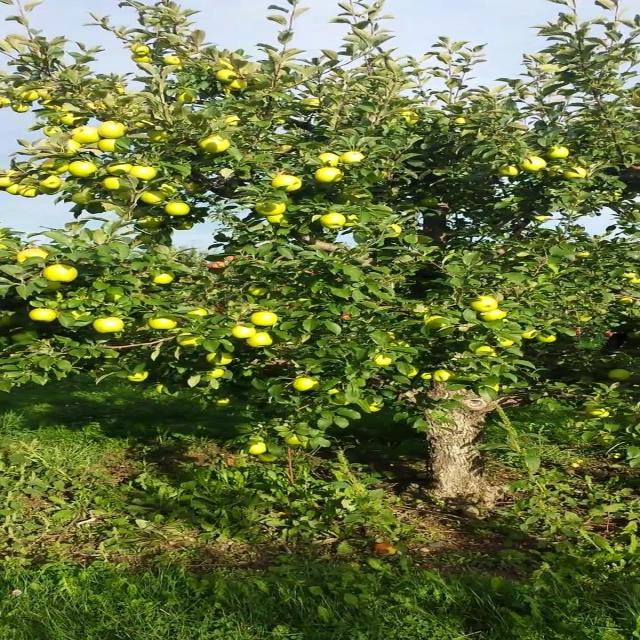apple: (198, 136, 233, 153), (70, 160, 100, 179), (49, 264, 78, 283), (92, 320, 128, 335), (255, 200, 288, 216), (276, 176, 306, 192), (518, 156, 548, 172), (148, 316, 178, 332), (468, 296, 498, 312), (177, 332, 206, 348), (220, 76, 249, 92), (205, 352, 235, 367), (319, 168, 347, 184), (248, 332, 276, 348), (319, 212, 345, 229), (99, 124, 128, 139), (42, 160, 71, 175), (20, 248, 50, 262), (63, 112, 89, 128), (255, 312, 279, 328), (163, 204, 192, 217), (77, 128, 100, 144), (156, 184, 180, 199), (63, 140, 84, 157), (234, 324, 256, 340), (383, 224, 405, 240), (106, 164, 135, 176), (141, 216, 164, 231), (340, 152, 368, 164), (134, 168, 158, 182), (426, 316, 450, 330), (141, 192, 164, 205), (184, 184, 208, 196), (148, 132, 171, 144), (13, 332, 36, 344), (319, 156, 341, 168), (298, 380, 320, 392), (156, 272, 178, 284), (547, 148, 569, 160), (248, 444, 270, 456), (127, 372, 149, 384), (42, 176, 64, 188), (433, 372, 457, 383), (497, 164, 519, 176), (255, 452, 277, 464), (99, 140, 121, 152), (227, 80, 249, 92), (42, 280, 64, 292), (362, 400, 384, 412), (404, 112, 421, 127), (20, 188, 43, 199), (483, 312, 508, 322), (35, 312, 57, 323), (106, 180, 126, 192), (177, 92, 197, 104), (568, 168, 588, 180), (269, 216, 292, 226), (589, 408, 612, 418), (177, 220, 196, 232), (476, 348, 501, 357), (220, 72, 240, 83), (376, 356, 396, 367), (92, 204, 114, 214), (191, 308, 210, 319), (77, 192, 94, 204), (6, 184, 23, 196), (611, 372, 633, 381), (42, 128, 64, 137), (348, 192, 372, 200), (20, 92, 39, 102), (134, 120, 153, 130), (333, 396, 350, 407), (134, 44, 149, 56), (163, 56, 183, 65), (305, 100, 320, 112), (525, 328, 540, 340), (547, 168, 562, 180), (248, 288, 270, 296), (419, 200, 441, 208), (220, 60, 236, 71), (227, 116, 242, 127), (497, 340, 517, 348), (42, 100, 62, 108), (42, 104, 62, 112), (13, 104, 30, 113), (618, 296, 635, 305), (276, 144, 293, 153), (134, 56, 153, 64), (348, 216, 363, 226), (540, 336, 558, 344), (404, 368, 420, 377), (0, 180, 18, 188), (212, 304, 228, 313), (70, 312, 89, 319), (92, 104, 108, 112), (212, 372, 228, 380), (419, 372, 434, 380), (326, 388, 341, 396), (6, 316, 16, 328), (36, 92, 50, 100), (276, 116, 290, 124), (625, 272, 639, 280), (220, 400, 233, 408), (490, 384, 503, 392), (6, 172, 23, 178), (291, 436, 302, 445), (454, 120, 469, 126), (170, 68, 185, 73), (582, 316, 592, 323), (156, 388, 167, 394), (6, 178, 16, 183)
